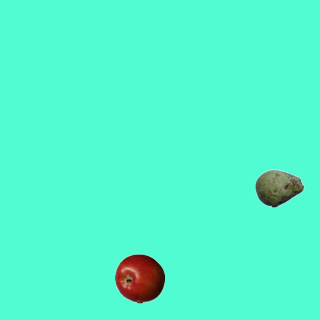Apple Braeburn: (114, 253, 164, 303)
Pear Stone: (254, 163, 304, 213)
